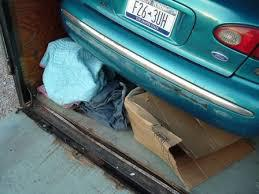rear-bumper-dent: (81, 25, 243, 103)
